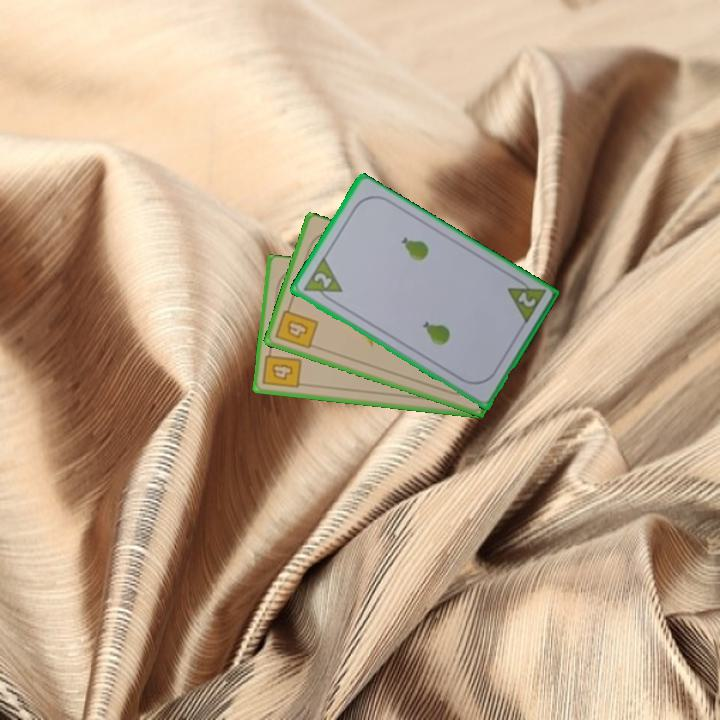2p: (503, 273, 548, 328), (299, 254, 345, 307)
4b: (272, 301, 321, 352), (259, 345, 304, 391)
